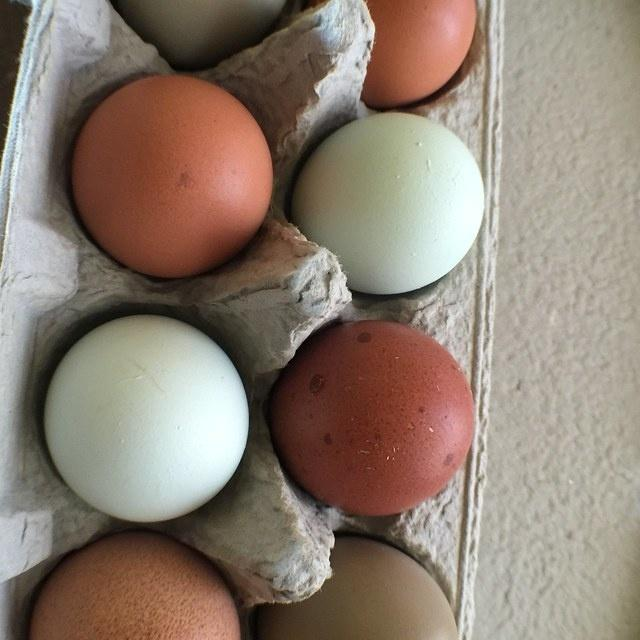egg: (70, 73, 273, 278), (267, 318, 475, 516), (27, 529, 241, 640), (307, 0, 478, 107)
